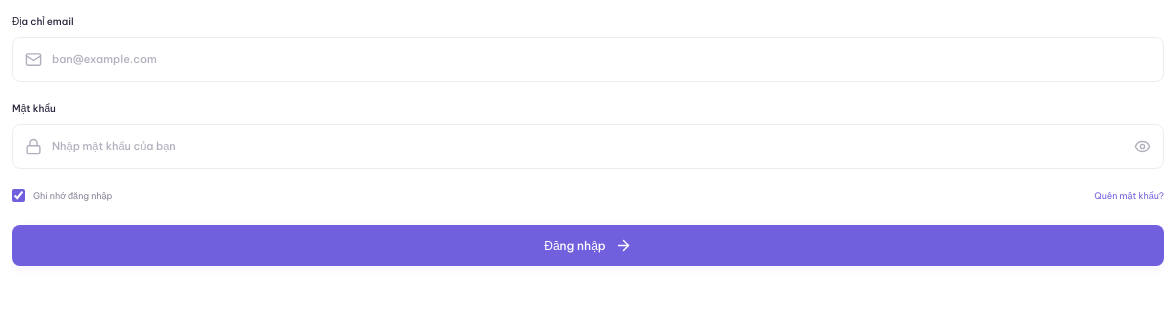
Scenario: Authentication form validation and failures › rejects invalid email without sending API request
This screenshot has width=1176, height=329.
Type "invalid" into the field labelled "Địa chỉ email" at {"x": 602, "y": 60}, box [52,38,1151,81]
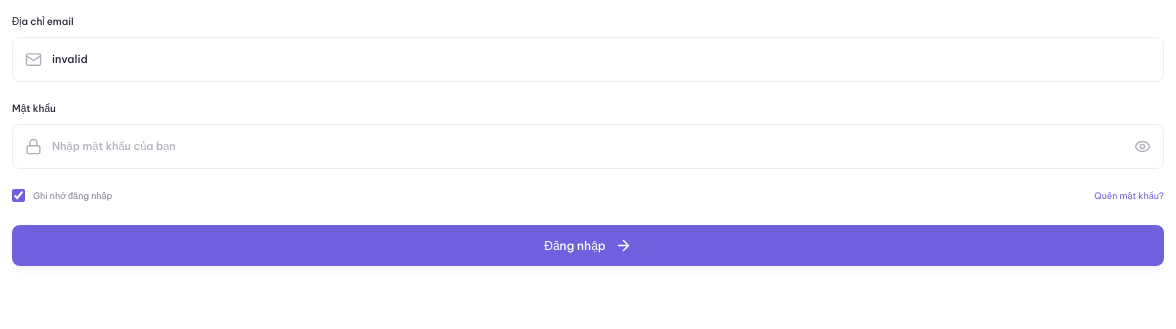
Click the button "Đăng nhập" at {"x": 588, "y": 246}, box [12,225,1164,266]
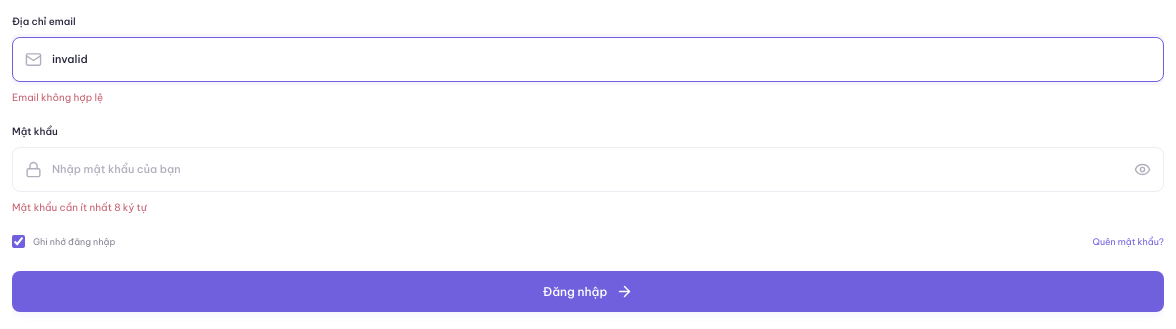
Expected: the text "Email không hợp lệ" is shown, [12,91,103,104]
